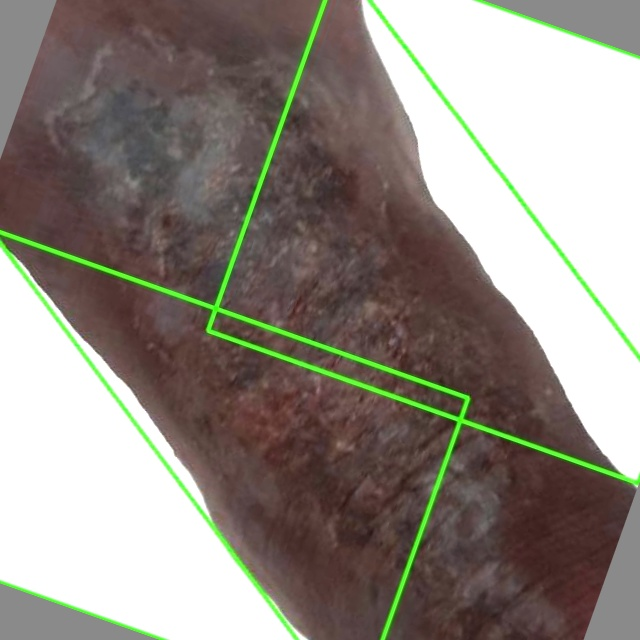Contact Dermatitis: (17, 0, 630, 639), (207, 0, 639, 483), (0, 232, 468, 639)
